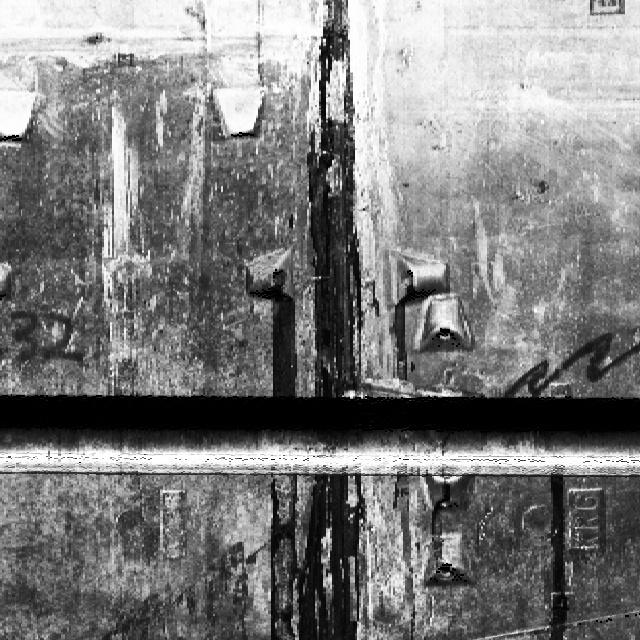leakage: (306, 0, 373, 395), (254, 469, 383, 639), (531, 458, 576, 639), (257, 282, 301, 397)
